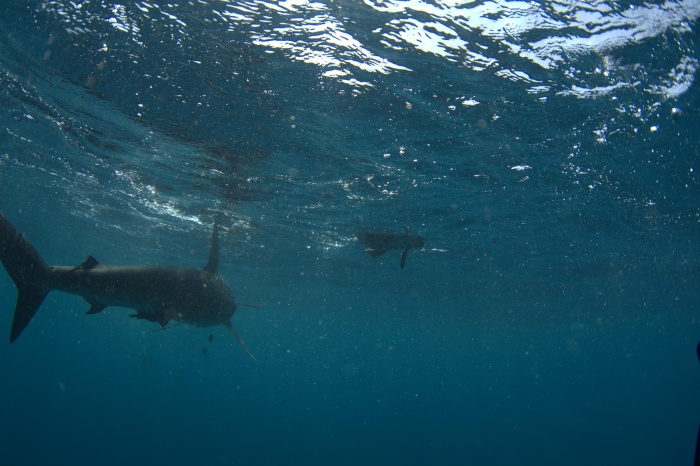Hammer: (1, 161, 259, 384), (43, 180, 407, 338)
